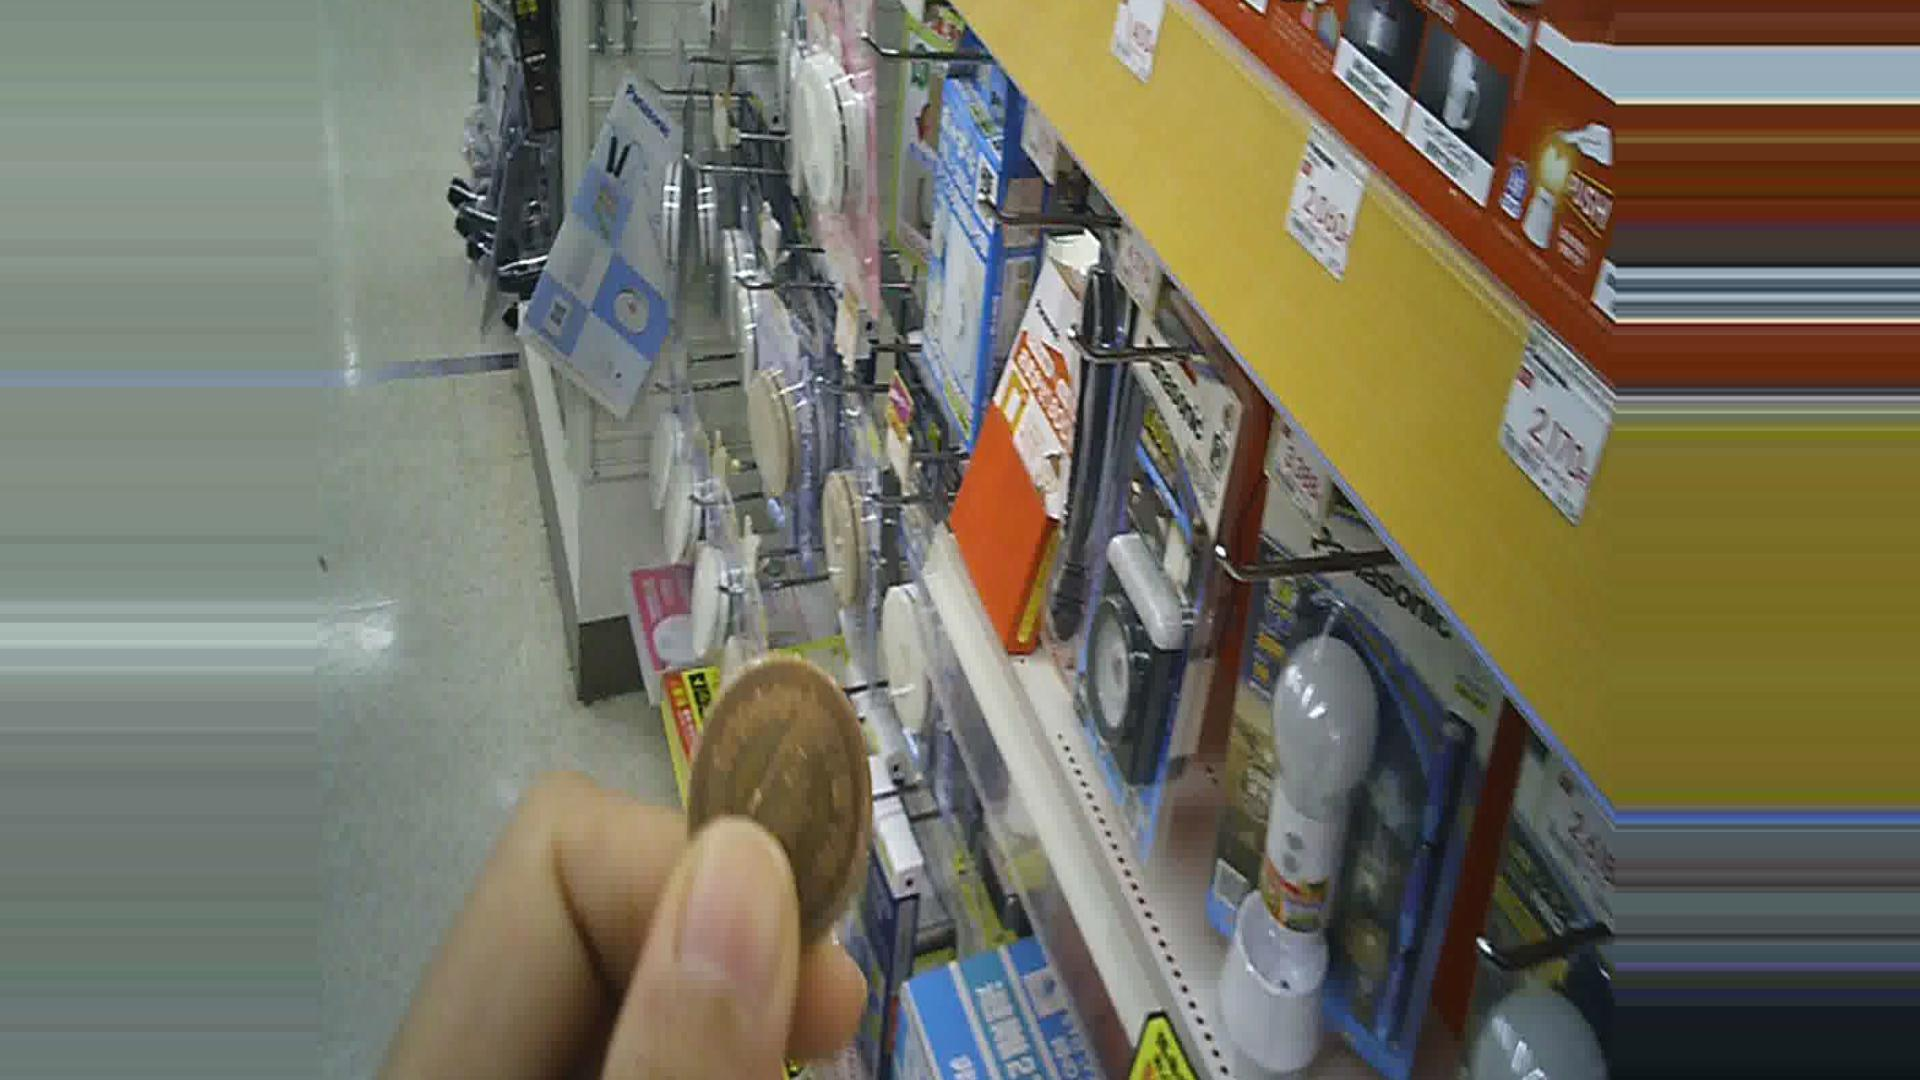10 Yen: (673, 665, 868, 938)
